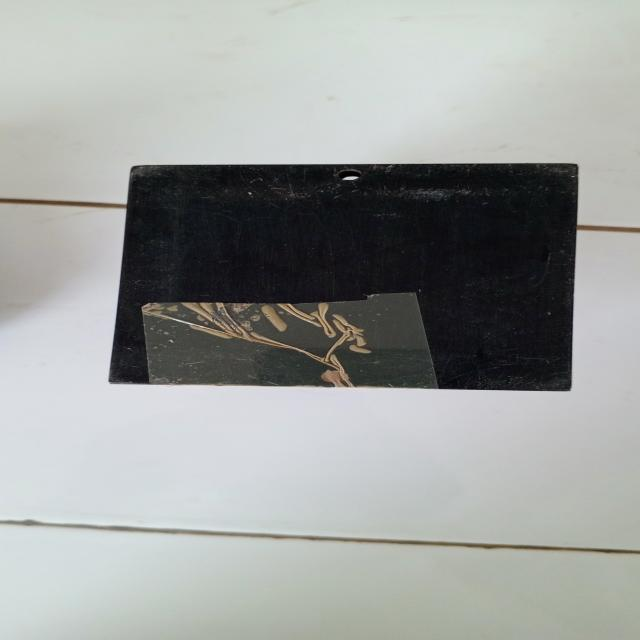Set of Resistances: (109, 158, 604, 400)
